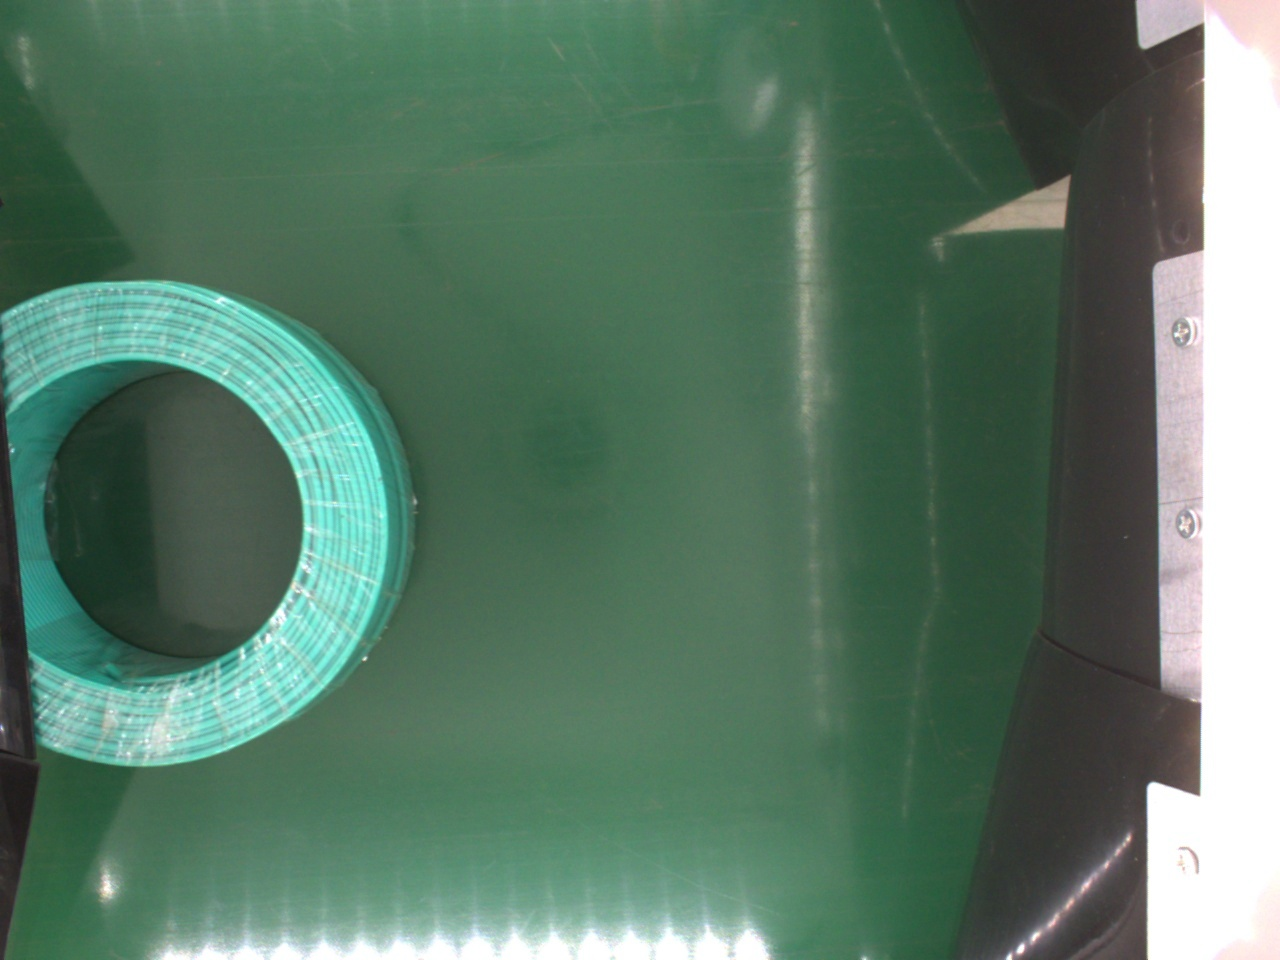green: (7, 280, 418, 777)
